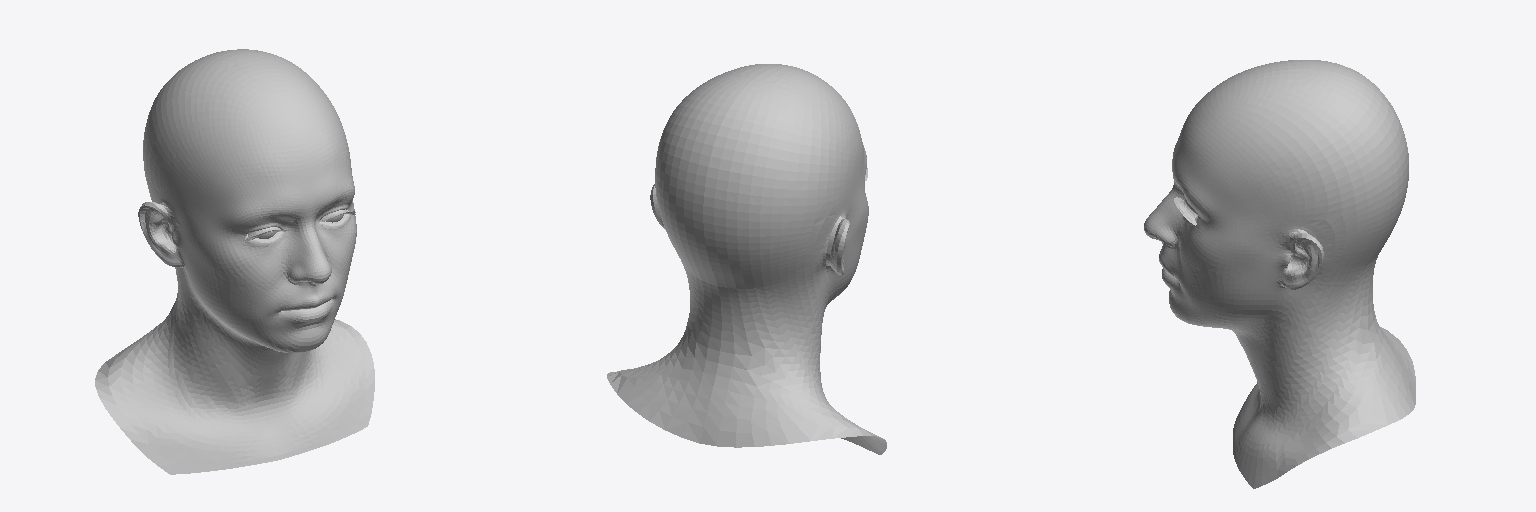
Rendered from generic_neutral_mesh.obj.
3 renders of one model, left to right at view 1: azimuth 30°, elevation 25°; view 2: azimuth 150°, elevation 25°; view 3: azimuth 270°, elevation 25°, orthographic.
Bounding box in the file's own units: 24.83 × 33.81 × 22.32.